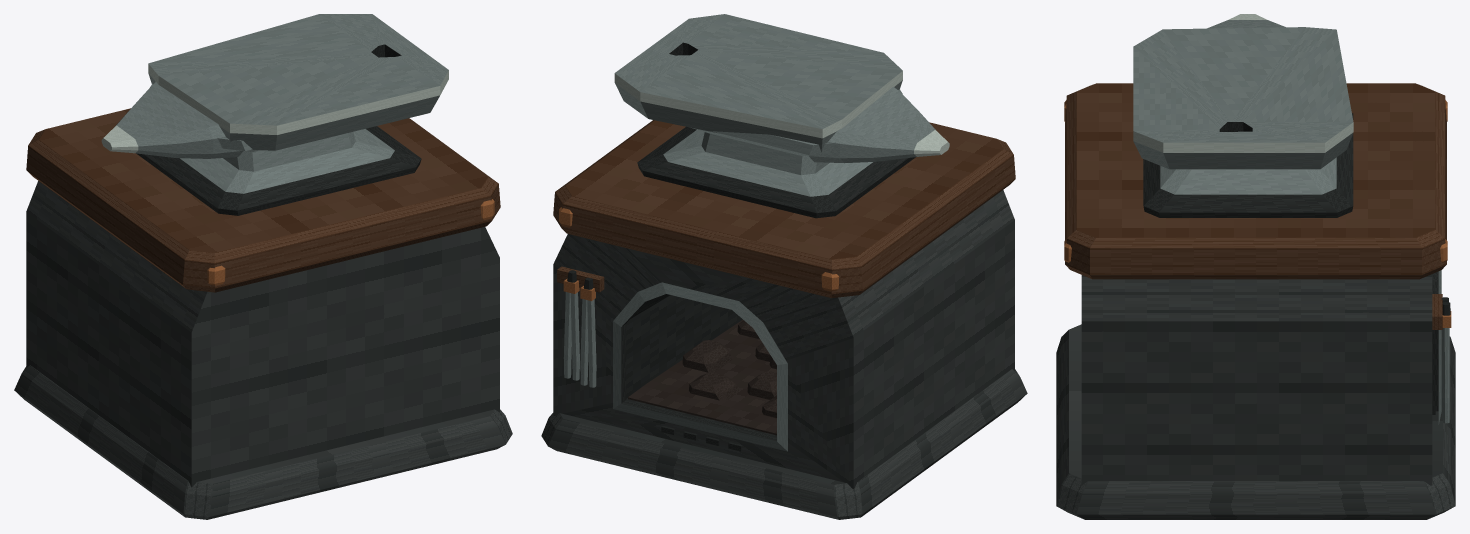
The model's file is forging_anvil.obj.
3 views of the same model, side by side, from view 1: azimuth 30°, elevation 25°; view 2: azimuth 150°, elevation 25°; view 3: azimuth 270°, elevation 25° (orthographic). The views are drawn at different scales.
Visible parts, largest first — view 1: geometry; view 2: geometry; view 3: geometry.
Boxes of the visible parts, x1,y1,x2,y2 form: geometry: (14,14,512,519); geometry: (541,14,1027,519); geometry: (1056,14,1455,519).
Size of the model in its own units: 0.9925 by 1 by 0.9825.
